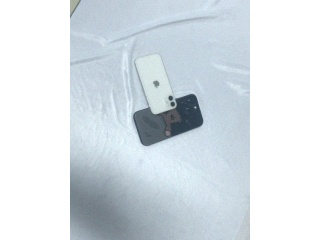phone: (133, 92, 205, 148), (135, 53, 176, 115)
